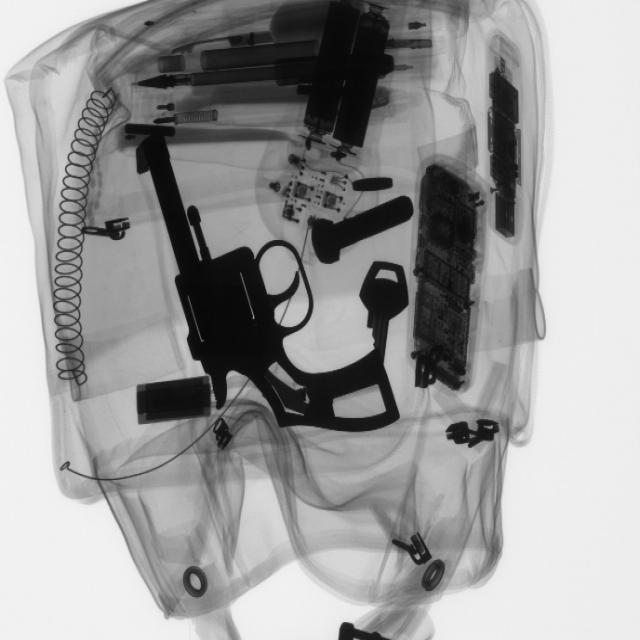GUN: (132, 128, 404, 436)
